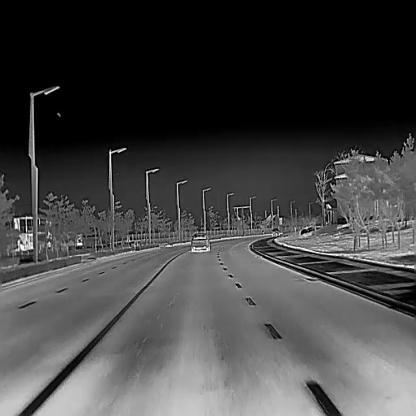car: (191, 232, 210, 251), (271, 228, 280, 236)
